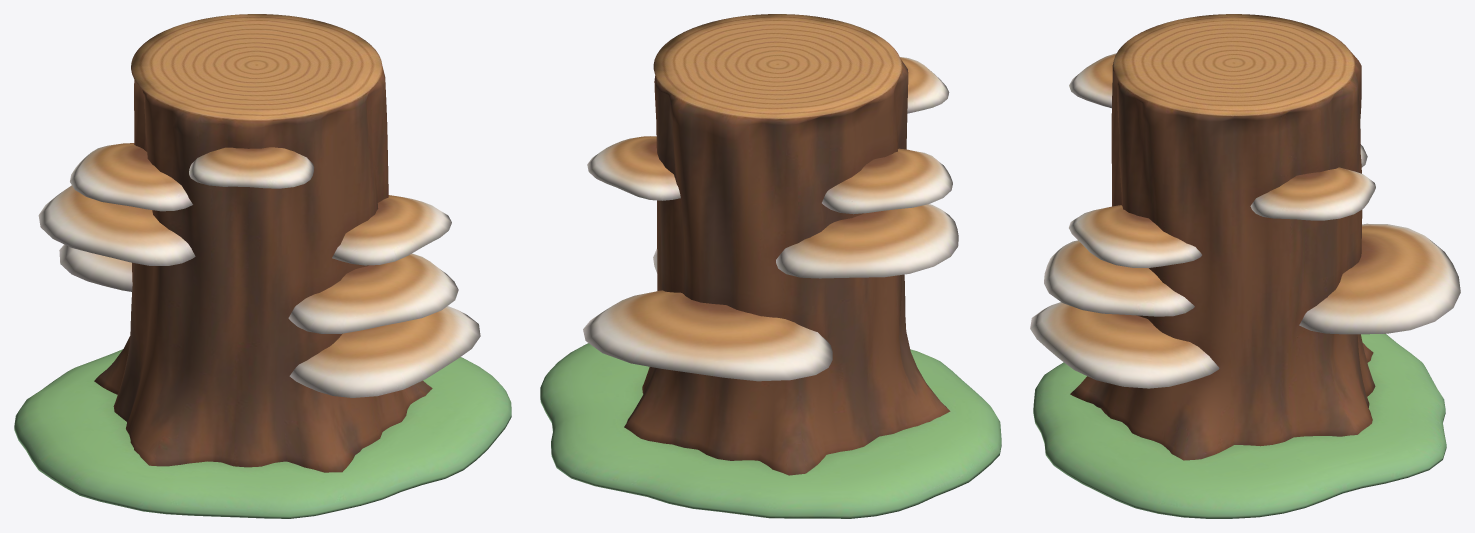
The model's file is bracket-fungus.glb.
3 renders of one model, left to right at view 1: azimuth 30°, elevation 25°; view 2: azimuth 150°, elevation 25°; view 3: azimuth 270°, elevation 25°, orthographic. The views are drawn at different scales.
Parts seen in each view (by area): view 1: bracket-fungus.001; view 2: bracket-fungus.001; view 3: bracket-fungus.001.
Part boxes in pixels (<box>): bracket-fungus.001: <box>14,14,511,518</box>; bracket-fungus.001: <box>540,14,1001,518</box>; bracket-fungus.001: <box>1030,14,1460,518</box>.
Bounding box in the file's own units: 1.24 × 1 × 1.12.
Materials: 1 (1 with a texture image).
